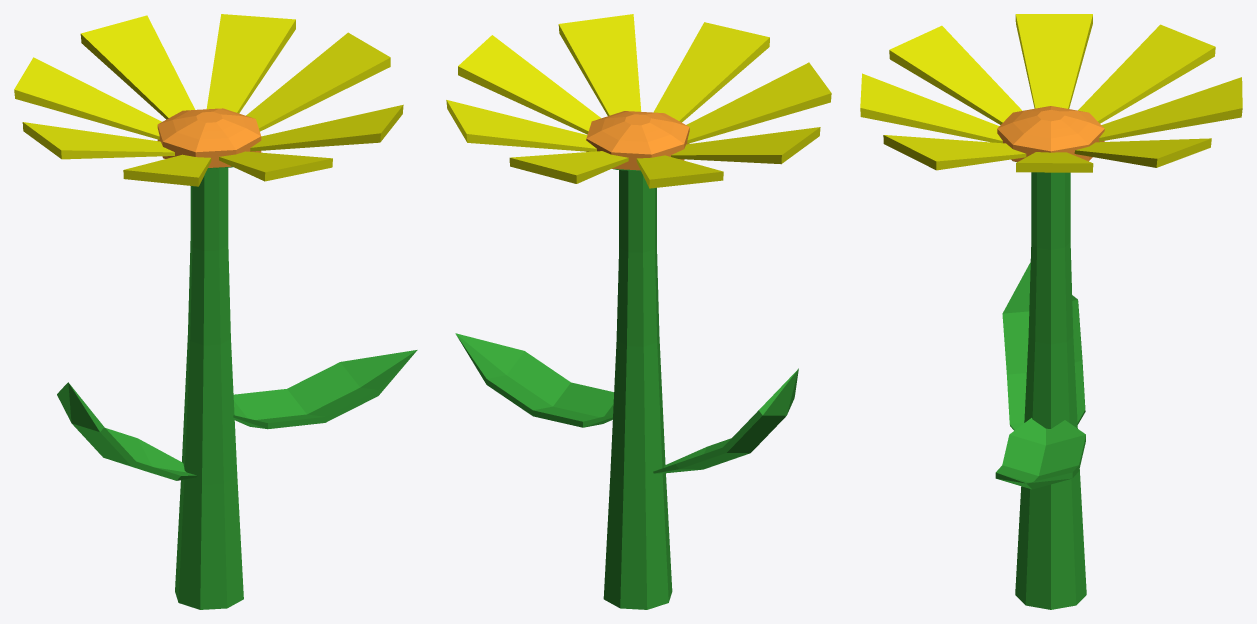
File: flowerY.fbx
3 renders of one model, left to right at view 1: azimuth 30°, elevation 25°; view 2: azimuth 150°, elevation 25°; view 3: azimuth 270°, elevation 25°, orthographic.
Parts seen in each view (by area): view 1: Cube.002; view 2: Cube.002; view 3: Cube.002.
Boxes of the visible parts, <box> form: Cube.002: <box>14,14,417,609</box>; Cube.002: <box>446,14,831,609</box>; Cube.002: <box>860,14,1242,609</box>.
Bounding box in the file's own units: 57.91 × 78.08 × 52.85.
